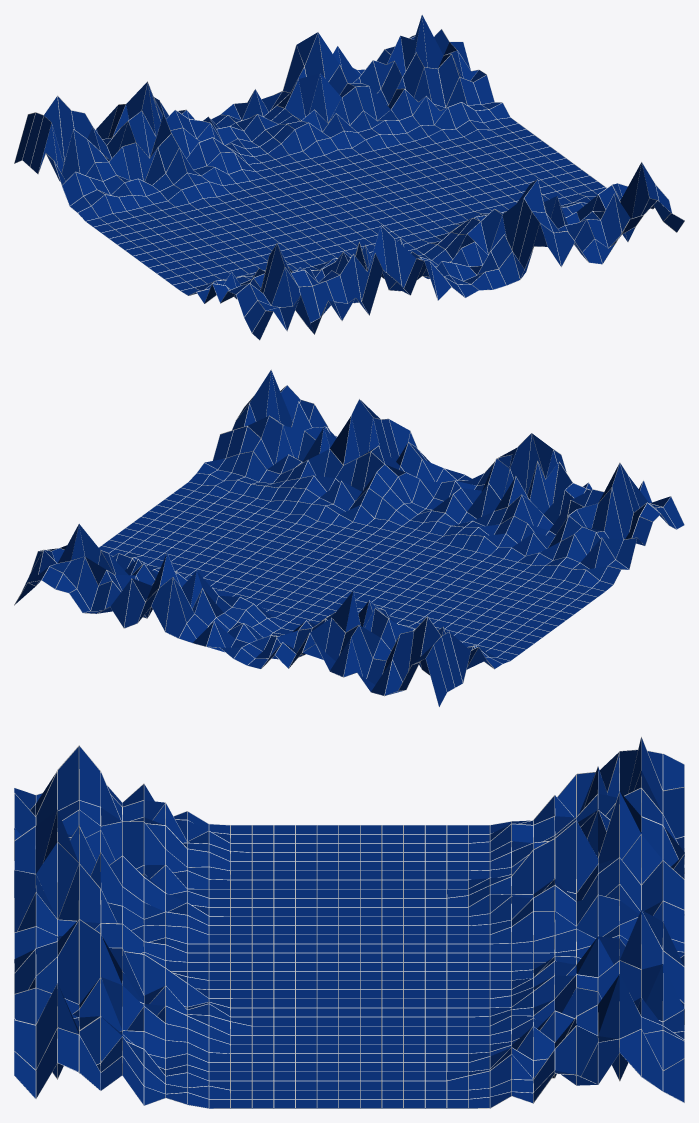
The model's file is MountainTextures.fbx.
3 renders of one model, top to bottom at view 1: azimuth 30°, elevation 25°; view 2: azimuth 150°, elevation 25°; view 3: azimuth 270°, elevation 25°, orthographic. The views are drawn at different scales.
Parts seen in each view (by area): view 1: Plane.001, Plane; view 2: Plane.001, Plane; view 3: Plane.001, Plane.
Part boxes in pixels (left/top/right/bottom): Plane.001: left=14, top=15, right=684, bottom=339; Plane: left=14, top=14, right=684, bottom=340; Plane.001: left=15, top=370, right=684, bottom=706; Plane: left=14, top=370, right=684, bottom=707; Plane.001: left=14, top=738, right=684, bottom=1108; Plane: left=14, top=736, right=684, bottom=1108.
Bounding box in the file's own units: 1602 × 285 × 1602.
